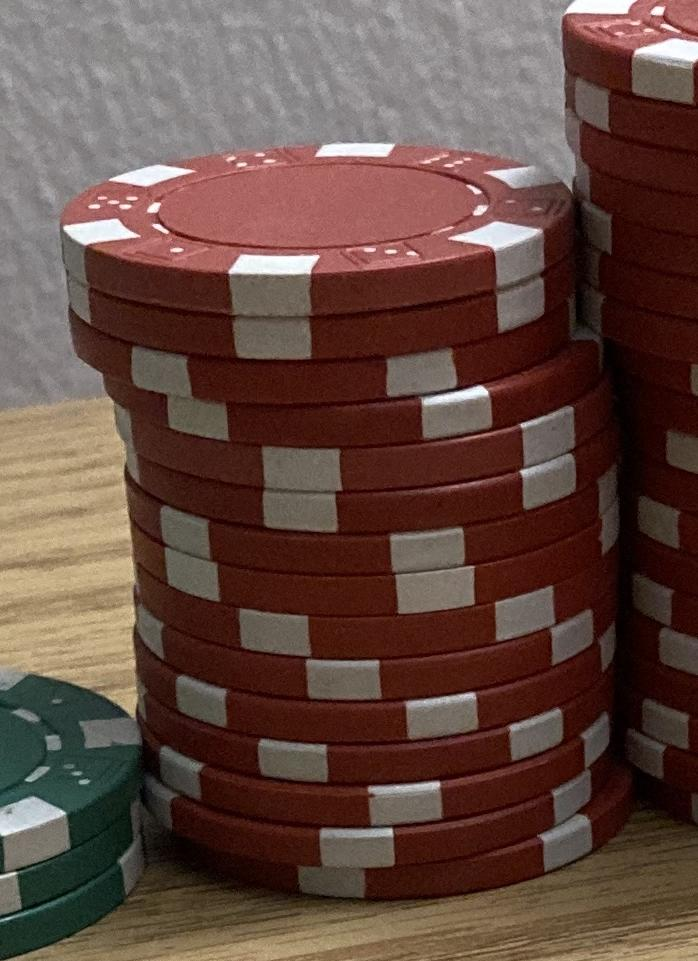Chip: (1, 1, 698, 961)
